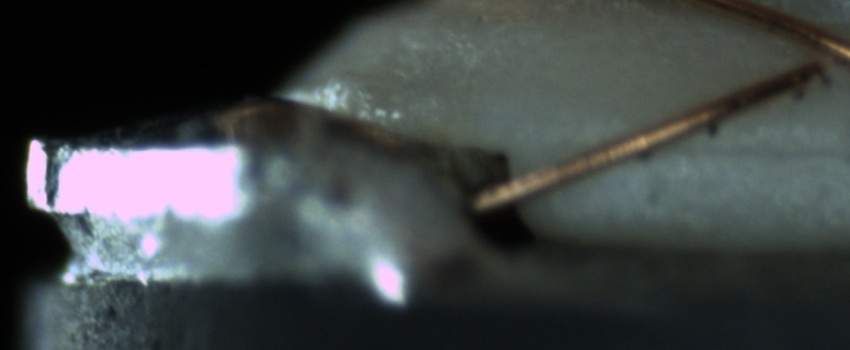DL: (619, 114, 849, 183)
